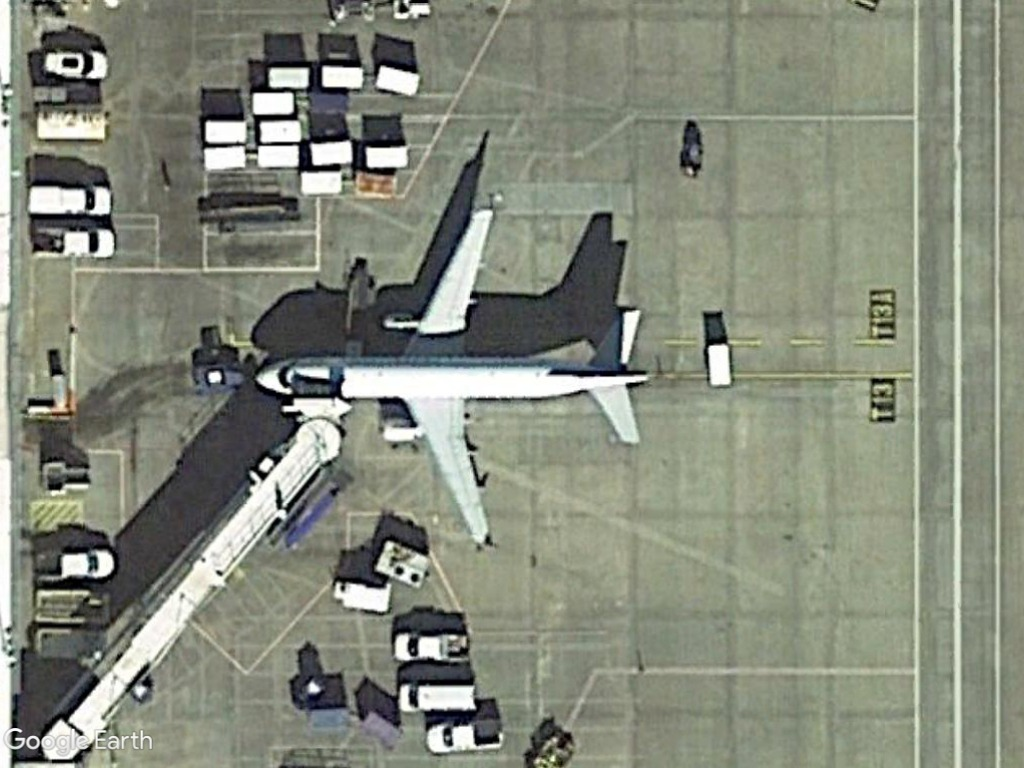airliner: (244, 195, 686, 556)
car: (55, 542, 119, 582)
other: (419, 714, 508, 759), (23, 223, 119, 264), (386, 628, 473, 665)
truck: (22, 181, 117, 217)
van: (392, 679, 485, 721)
